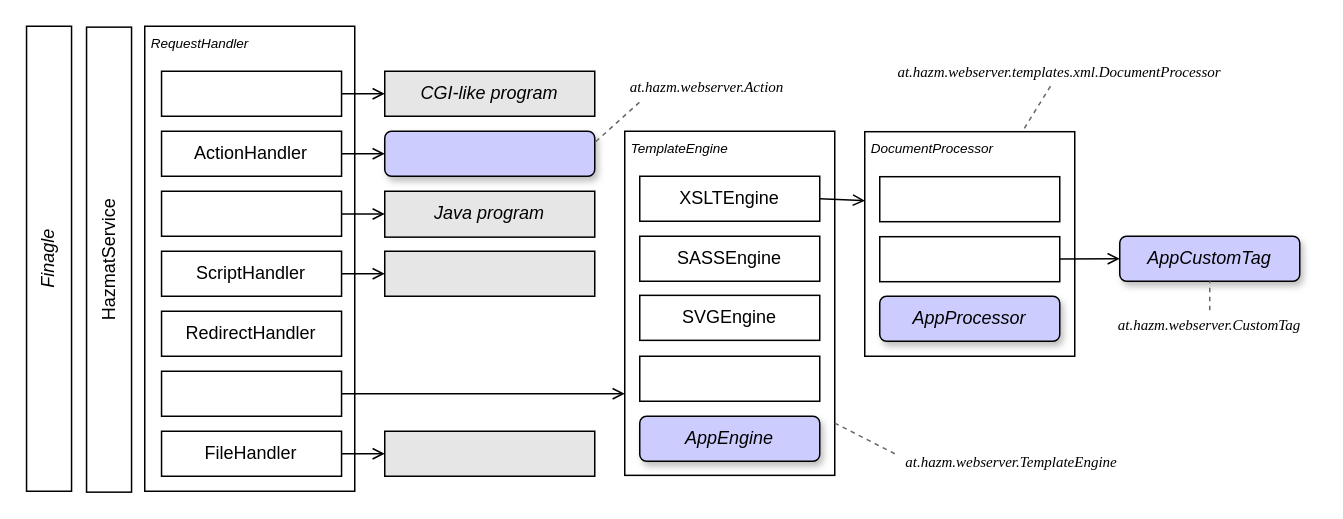
Image size: 1343x519. Some labels were removed from this diagram. Here are the shapes that lost their labels. From the top down, the centre of each, then its label:
(251,93): CommandHandler
(490,155): AppAction
(251,213): JavaHandler
(969,198): ScriptProcessor
(489,273): JS program
(969,258): CustomTagProcessor
(251,393): TemplateHandler
(729,378): TypeScriptEngine
(489,453): Local File
